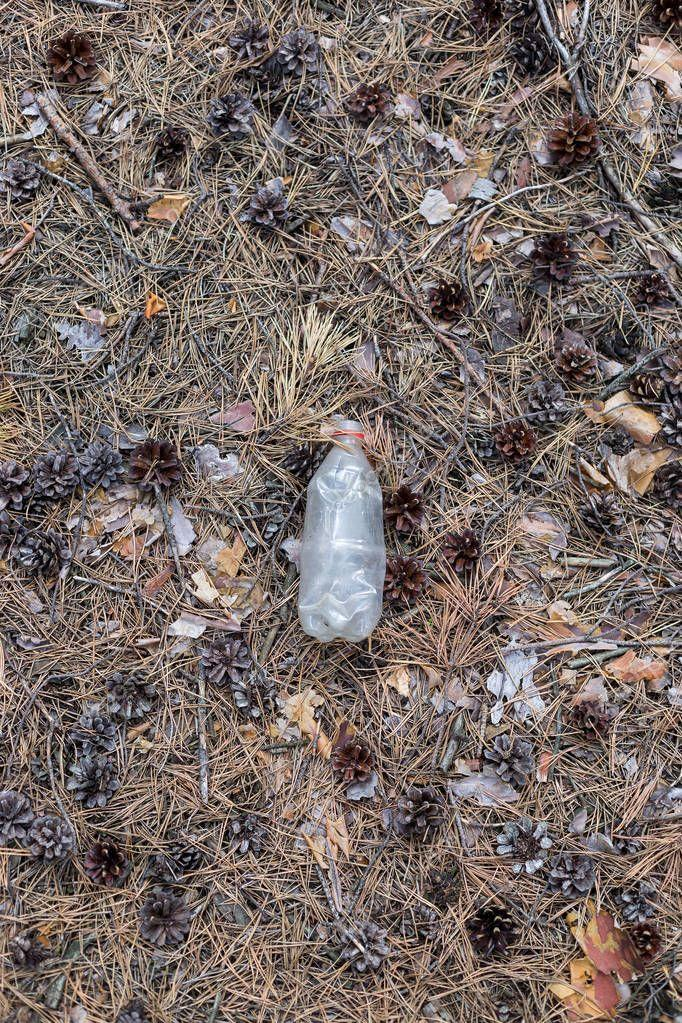bottle: (246, 406, 423, 681)
